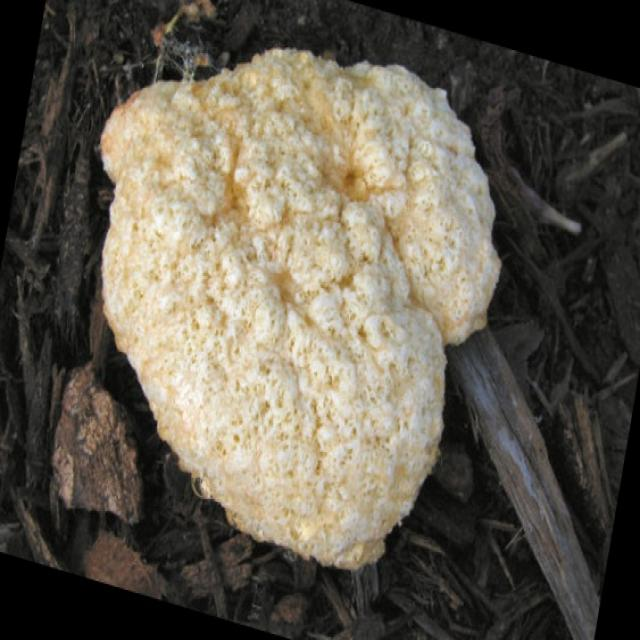Dog_vomit_slime_mold: (70, 60, 530, 588)
